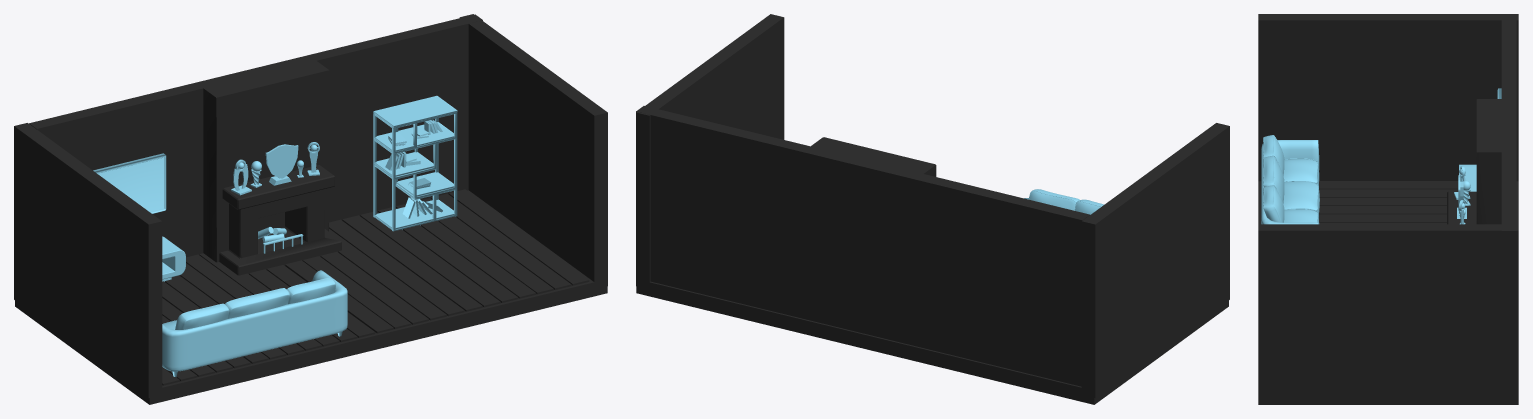
File: UDG Living room.FBX
The picture shows the model from 3 angles, left to right: view 1: azimuth 30°, elevation 25°; view 2: azimuth 150°, elevation 25°; view 3: azimuth 270°, elevation 25°; orthographic projection. The views are drawn at different scales.
Parts seen in each view (by area): view 1: living room; view 2: living room; view 3: living room.
Boxes of the visible parts, x1,y1,x2,y2 form: living room: (14,14,607,404); living room: (636,14,1229,404); living room: (1258,14,1518,404).
Bounding box in the file's own units: 959 × 360 × 486.
